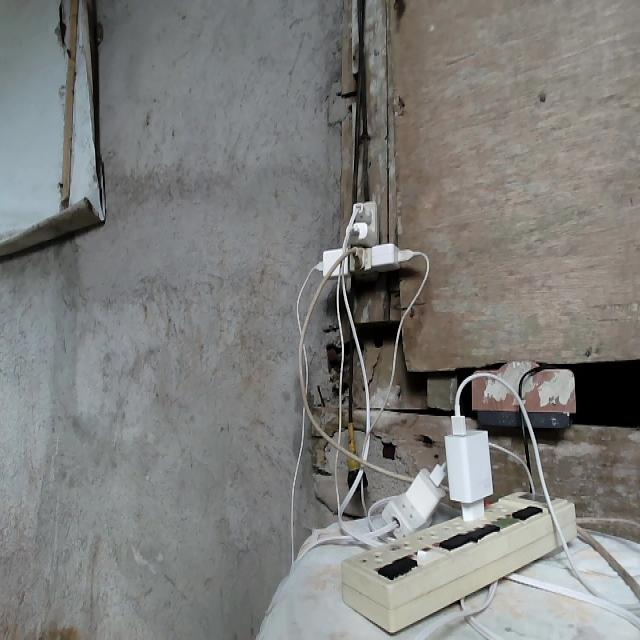-: (308, 195, 415, 282)
